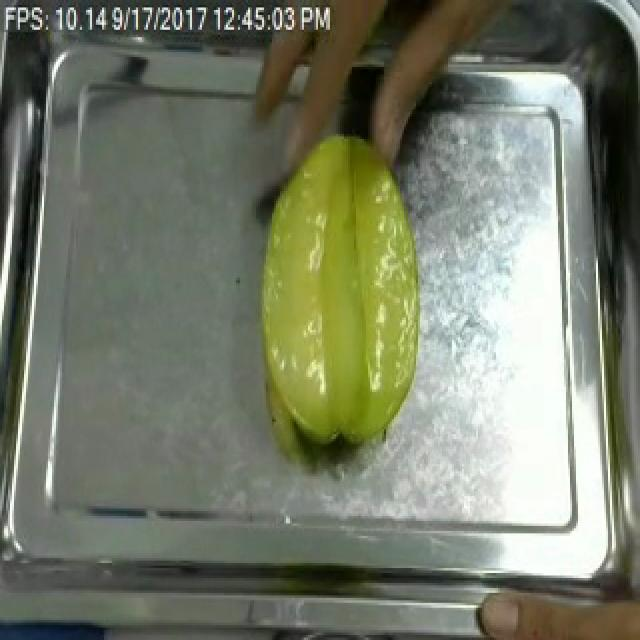fruit: (242, 116, 430, 464), (468, 568, 638, 640)
